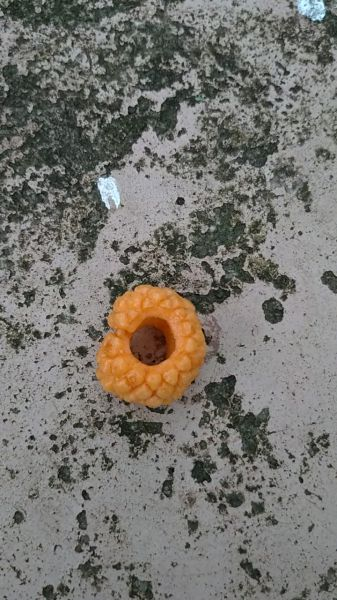eggs: (89, 276, 210, 415)
